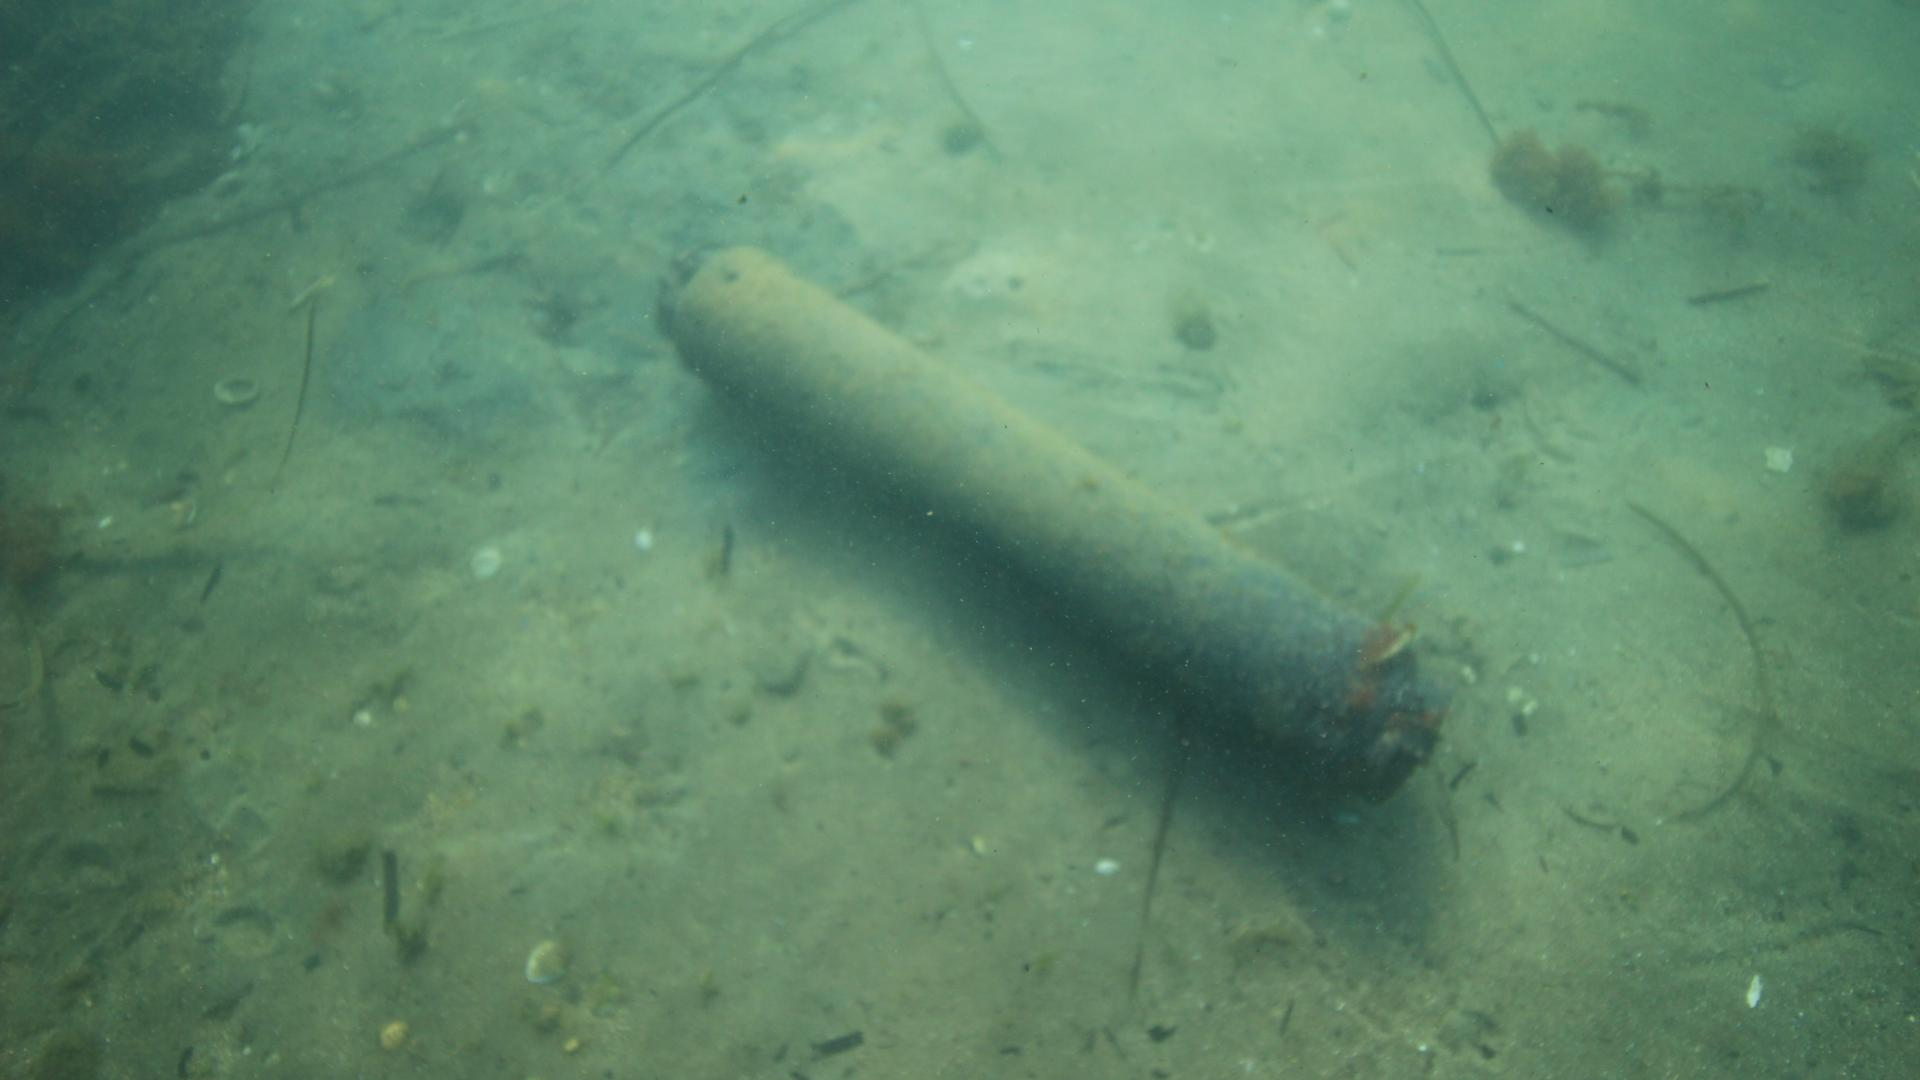eel fish trap: (651, 241, 1451, 804)
